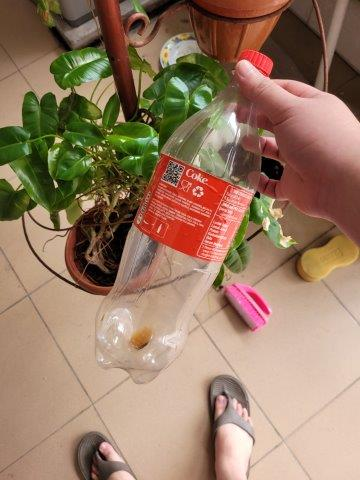botolplastik: (95, 51, 271, 384)
